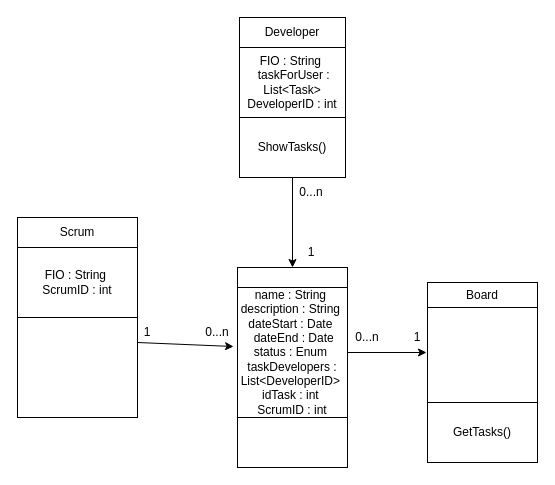
This 555x485 diagram has some shape labels left out. Here are the shapes that lost their labels. From the top down, the box of each, then its label:
(236, 266, 348, 288): Task
(16, 316, 138, 418): AddTask() EditTask() DeleteTask() AddUserToTask() ShowTasks() ChangeStatusTask()
(426, 306, 538, 402): taskBoard : List<Task>
(236, 416, 348, 468): GetTask()
